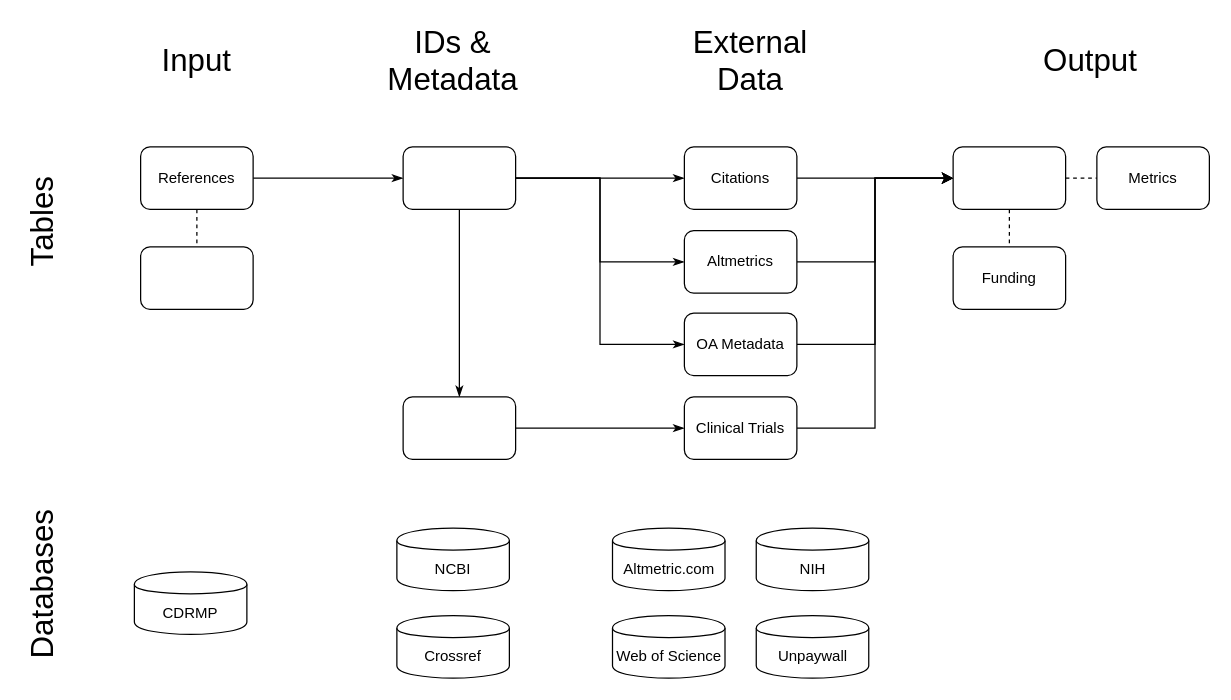
This 1231x700 diagram has some shape labels left out. The shapes that lost their labels are listed below. From the top down, each one's box as (x1, y1, x2, y2) in pixels, then its label:
(402, 146, 516, 209): DOIs & Metadata
(952, 146, 1066, 209): Articles
(139, 246, 253, 309): Awards
(402, 396, 516, 459): PMIDs & PMCIDs
